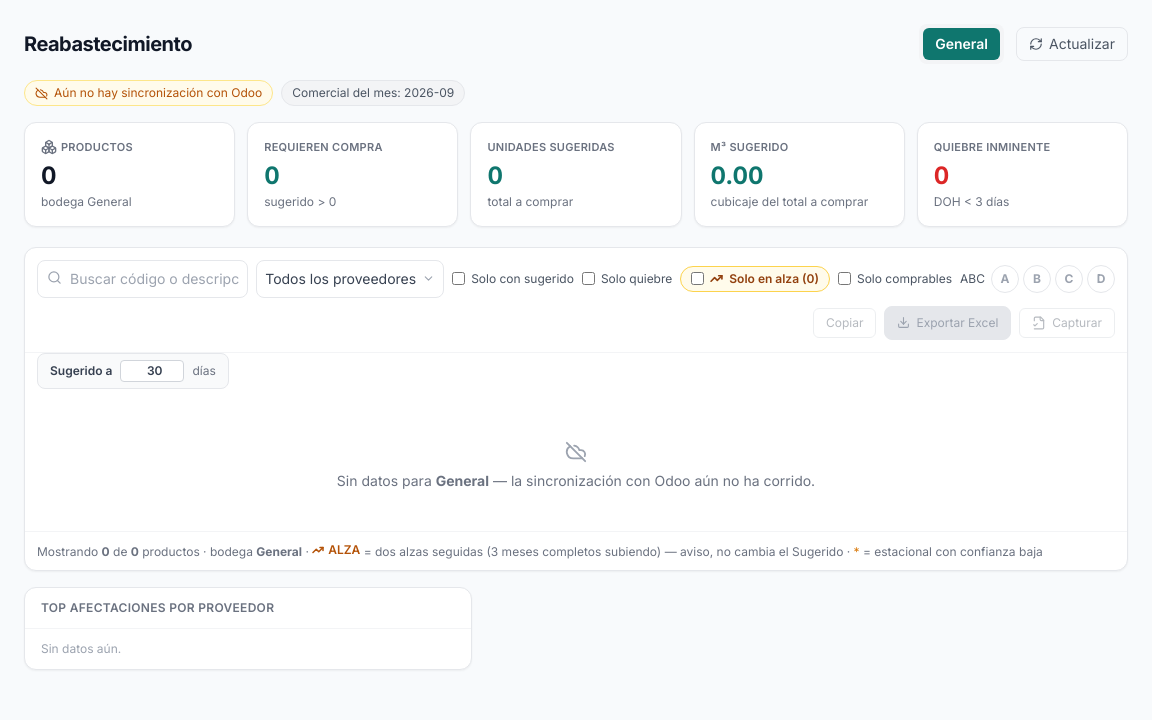
Test case: fuera de 1–365 no se guarda y vuelve al valor guardado al salir
Replace the text in the number field named "Días que cubre el Sugerido en General" with "500" at (152, 370), box [120,360,184,382]
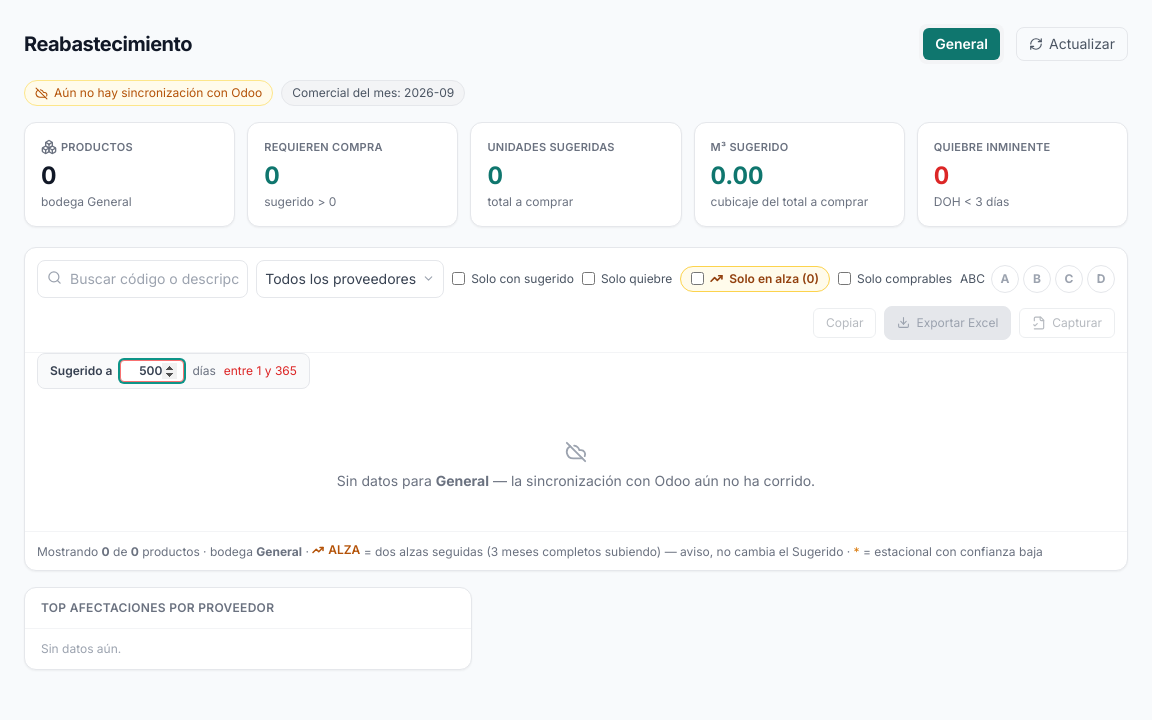
Check: the text "entre 1 y 365" is shown, box [224,362,297,378]
Press Tab
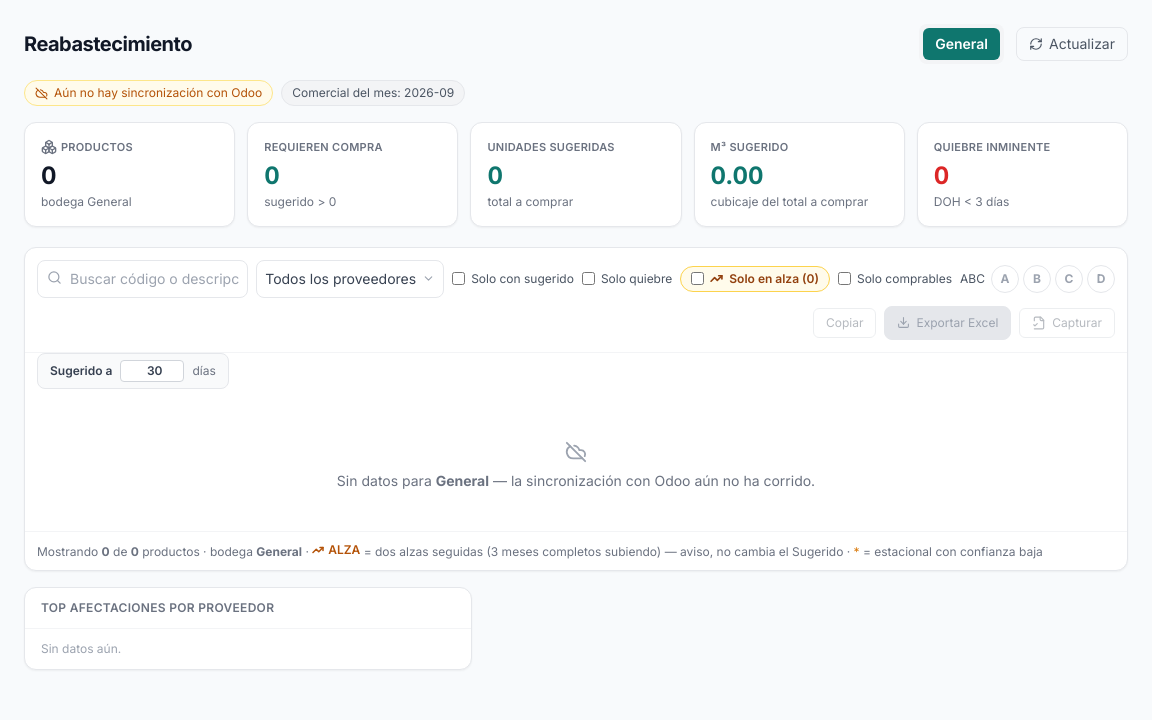
Check: the number field named "Días que cubre el Sugerido en General" holds "30", box [120,360,184,382]
